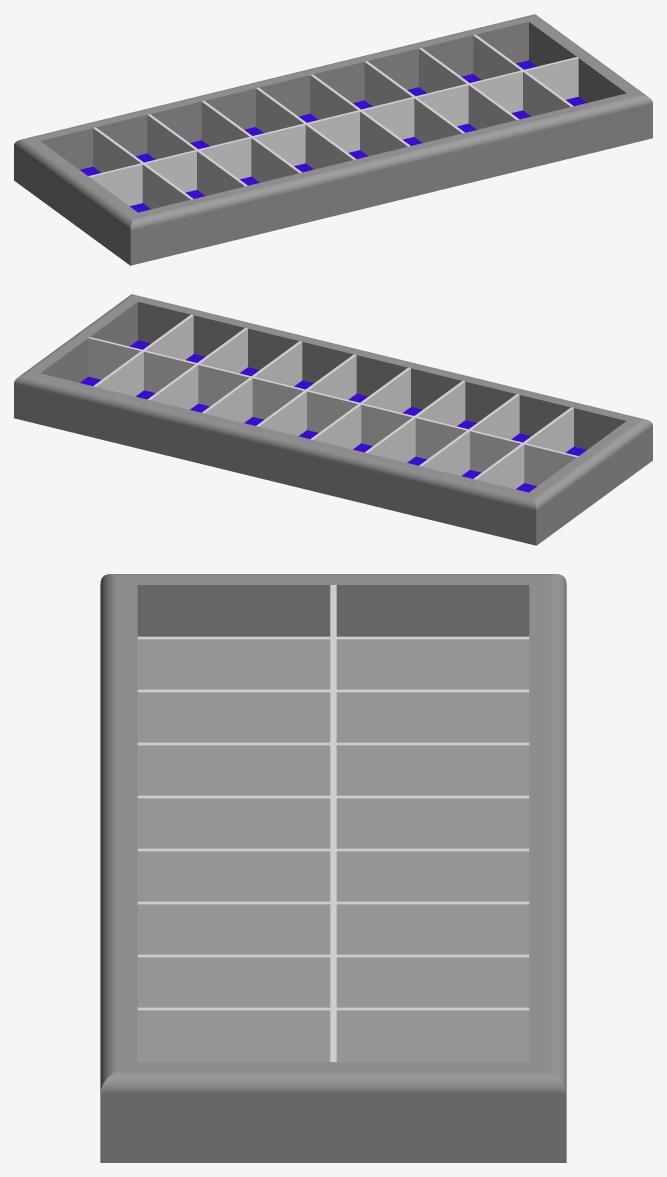
The model's file is Countdown Card Stand.fbx.
3 views of the same model, one above another, from view 1: azimuth 30°, elevation 25°; view 2: azimuth 150°, elevation 25°; view 3: azimuth 270°, elevation 25° (orthographic). The views are drawn at different scales.
Parts seen in each view (by area): view 1: Cube.001; view 2: Cube.001; view 3: Cube.001.
Part boxes in pixels (bbox=[...]): Cube.001: bbox=[14, 14, 652, 265]; Cube.001: bbox=[14, 294, 652, 545]; Cube.001: bbox=[100, 574, 566, 1162].
Bounding box in the file's own units: 725 × 56 × 280.
